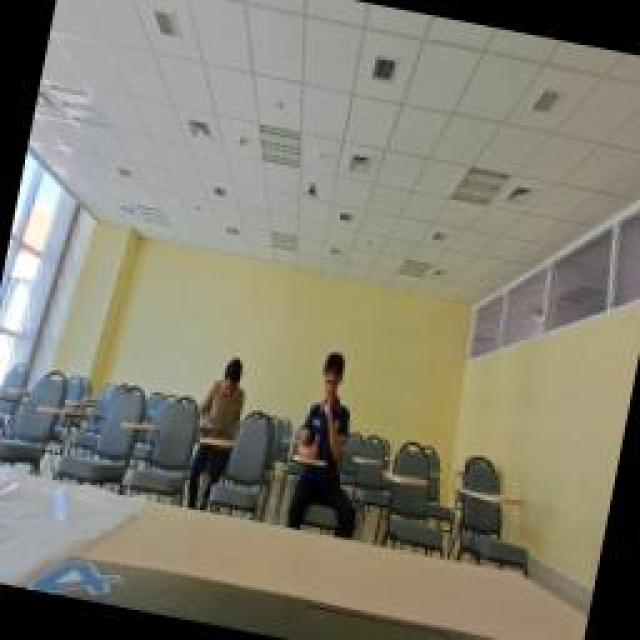study: (293, 348, 365, 468), (190, 345, 252, 440)
